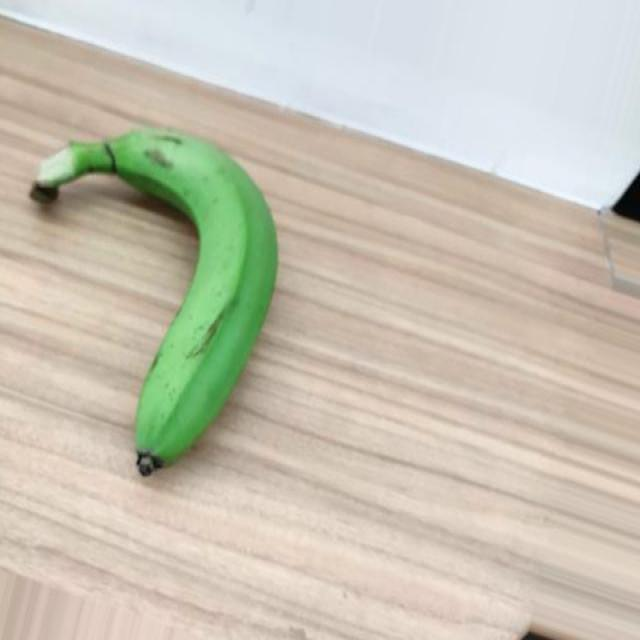Unripe: (29, 119, 278, 480)
